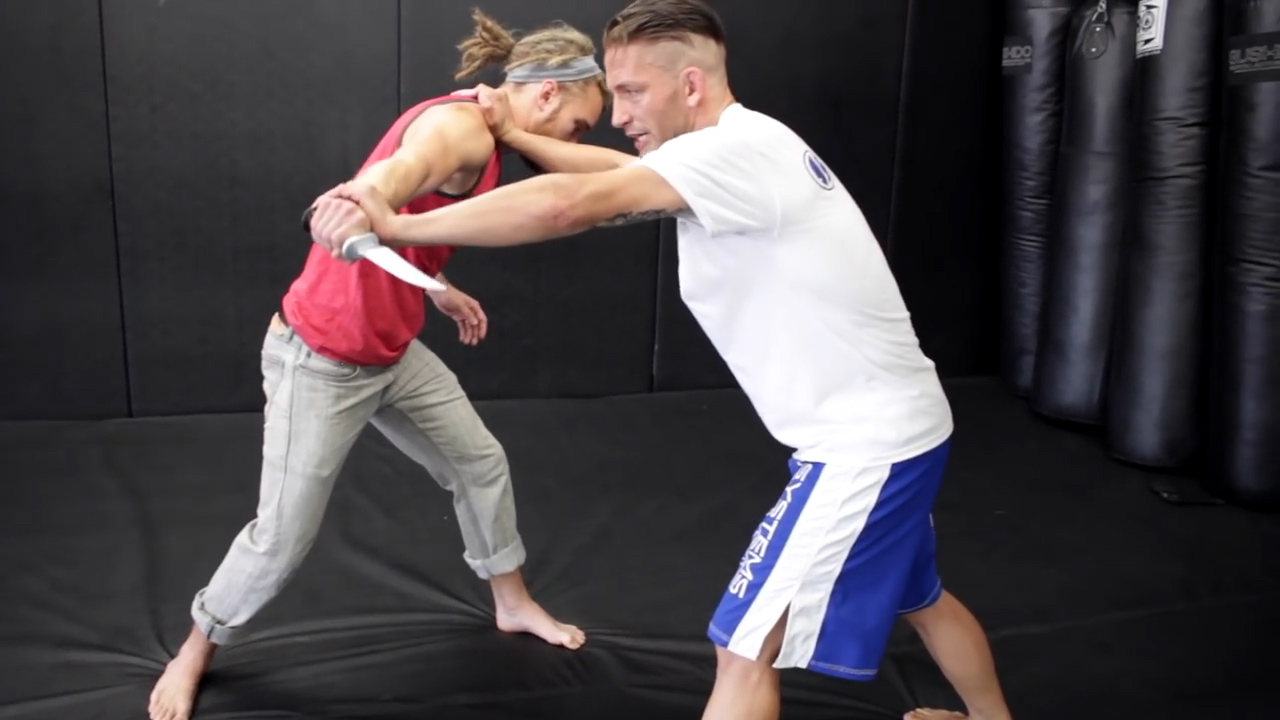knife: (296, 200, 459, 301)
